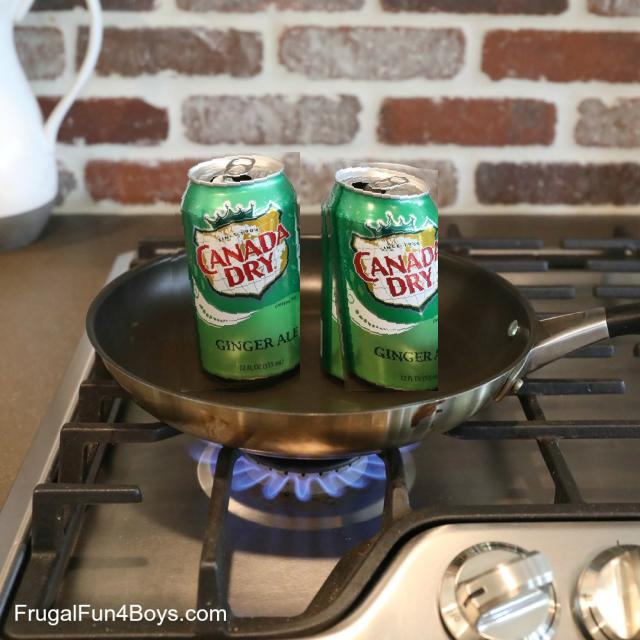Cans: (163, 152, 300, 392), (319, 158, 438, 392)
